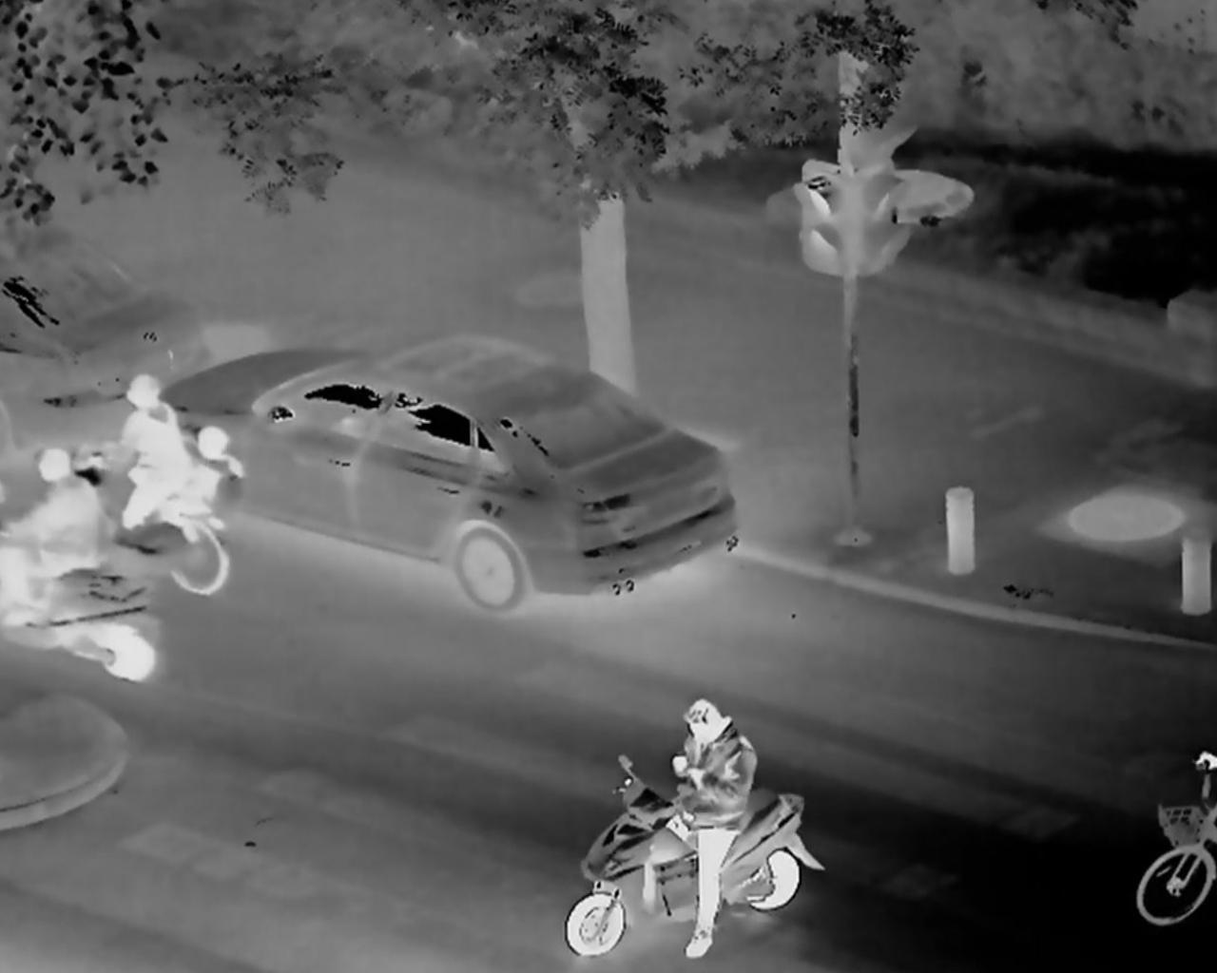person: (644, 694, 763, 961), (9, 445, 98, 601), (110, 374, 188, 544), (184, 413, 240, 536)
